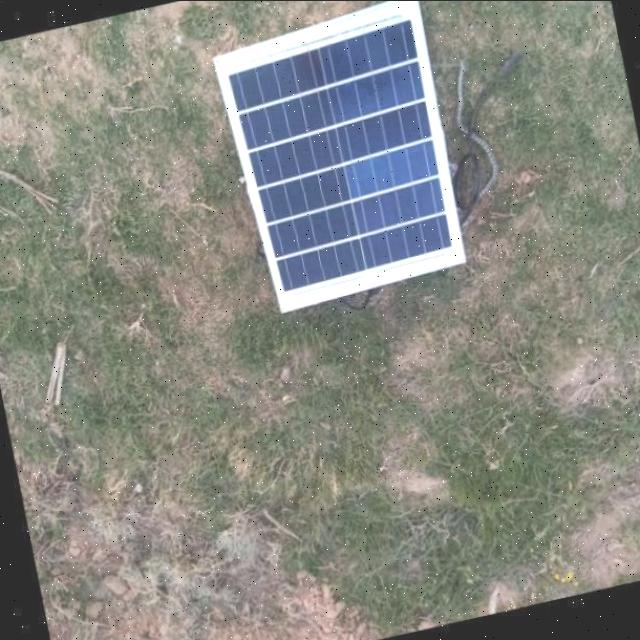Normal Solar Panel: (211, 0, 472, 310)
